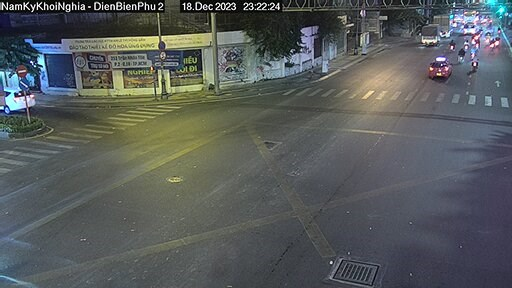car: (427, 54, 454, 82)
motorbike: (471, 52, 482, 74), (455, 46, 467, 64)
truck: (419, 24, 443, 46)
